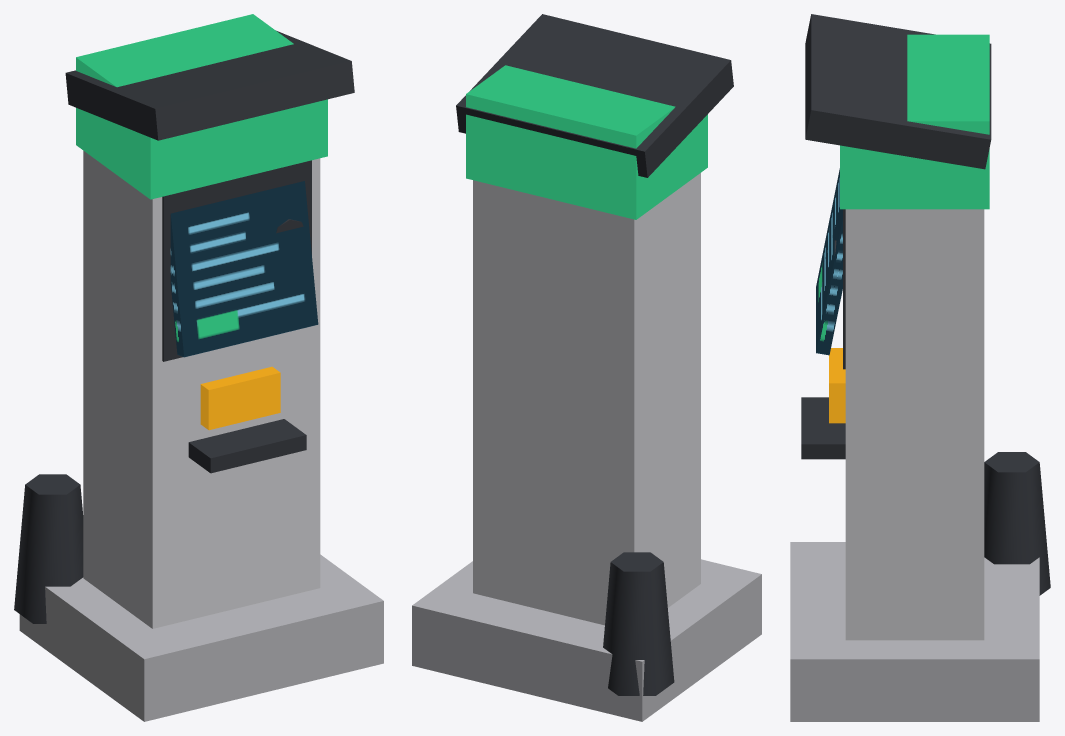
The picture shows the model from 3 angles, left to right: view 1: azimuth 30°, elevation 25°; view 2: azimuth 150°, elevation 25°; view 3: azimuth 270°, elevation 25°; orthographic projection. The views are drawn at different scales.
Size of the model in its own units: 1.04 by 2.39 by 0.94.
6 materials, 1 textured.
